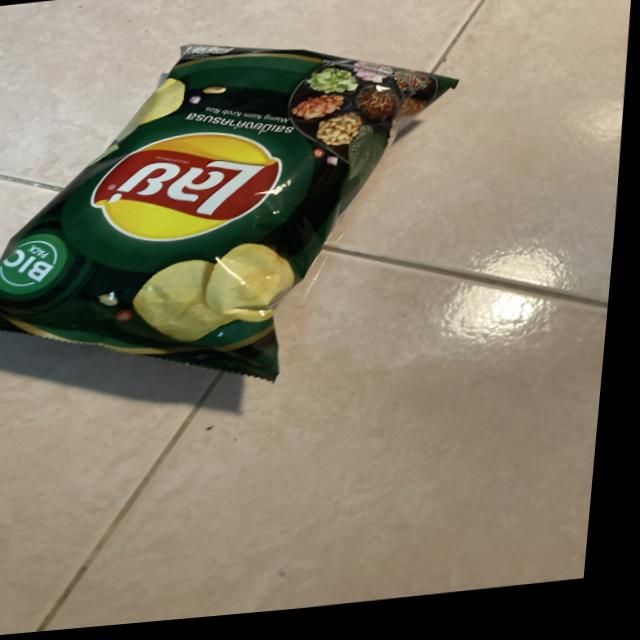Laygreen: (0, 14, 438, 411)
